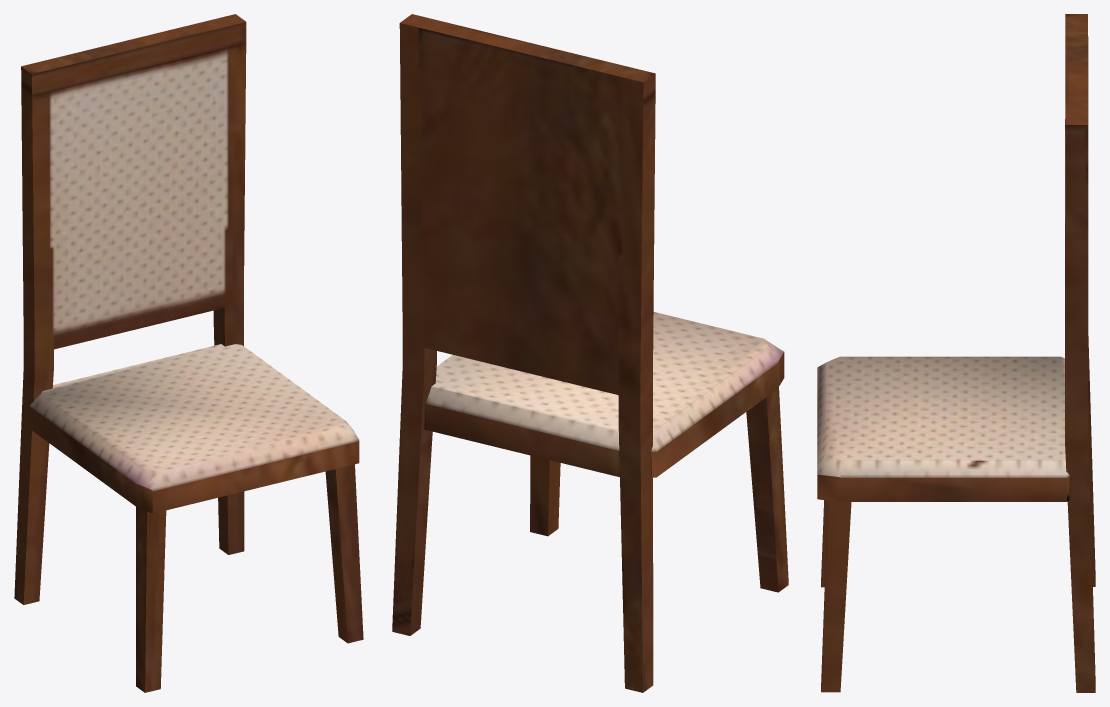
The model's file is Chair_02-col.glb.
3 renders of one model, left to right at view 1: azimuth 30°, elevation 25°; view 2: azimuth 150°, elevation 25°; view 3: azimuth 270°, elevation 25°, orthographic. The views are drawn at different scales.
Visible parts, largest first — view 1: Chair_02-col; view 2: Chair_02-col; view 3: Chair_02-col.
Part boxes in pixels (bbox=[...]): Chair_02-col: bbox=[14, 14, 363, 692]; Chair_02-col: bbox=[392, 14, 788, 692]; Chair_02-col: bbox=[817, 14, 1095, 692].
Bounding box in the file's own units: 0.5936 × 1.37 × 0.6114.
Materials: 1 (1 with a texture image).
